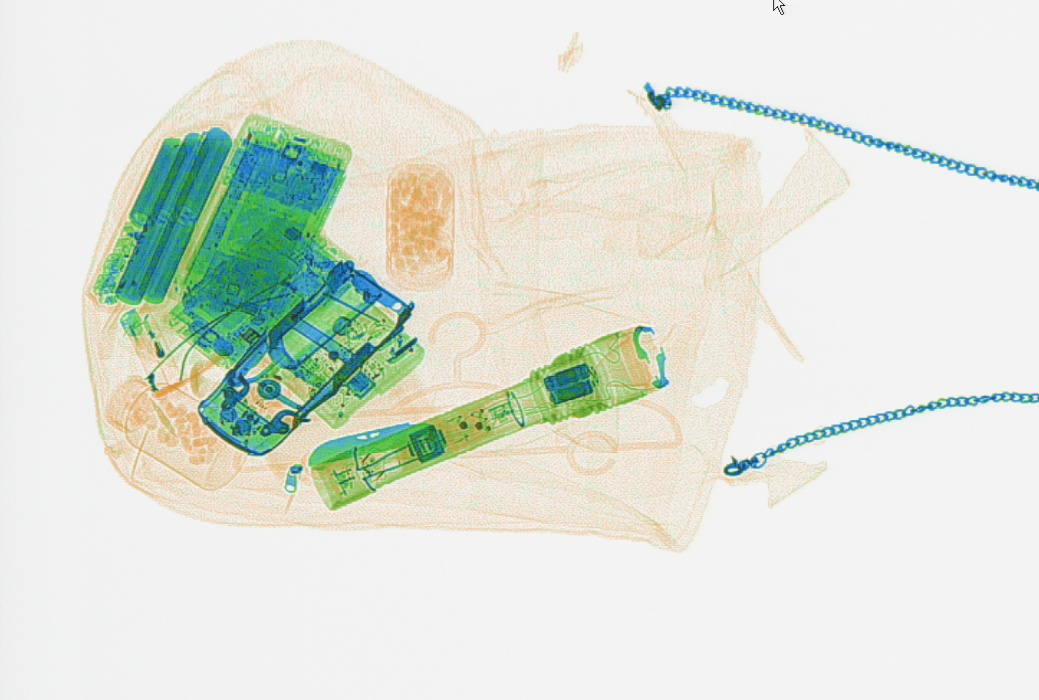lighter: (111, 306, 175, 393)
powerbank: (88, 124, 226, 304)
